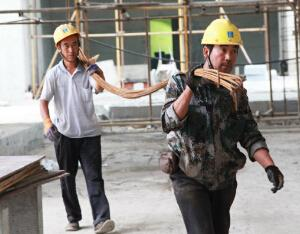helmet: (202, 18, 243, 48), (54, 25, 80, 46)
